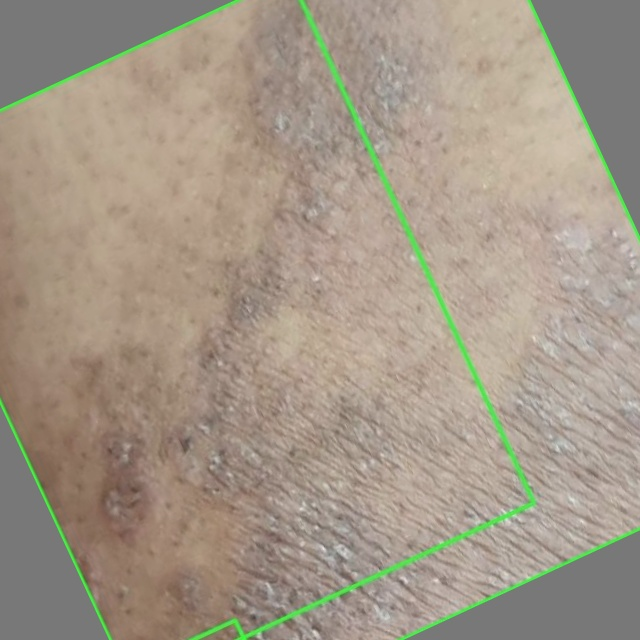Tinea Corporis: (0, 0, 639, 639), (0, 0, 534, 639)
